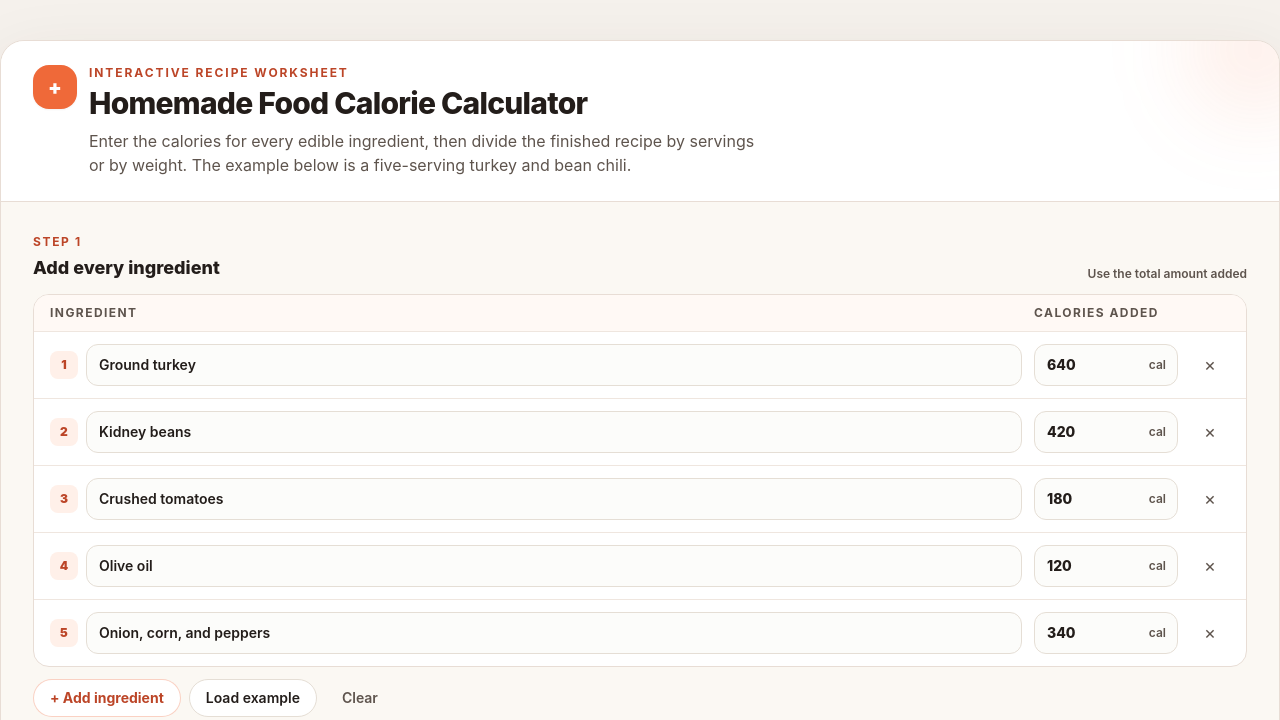
Scenario: HomemadeRecipeCalorieCalculator › clears safely without rendering invalid numeric output
Click the button "Clear": (360, 698) [325,679,395,717]
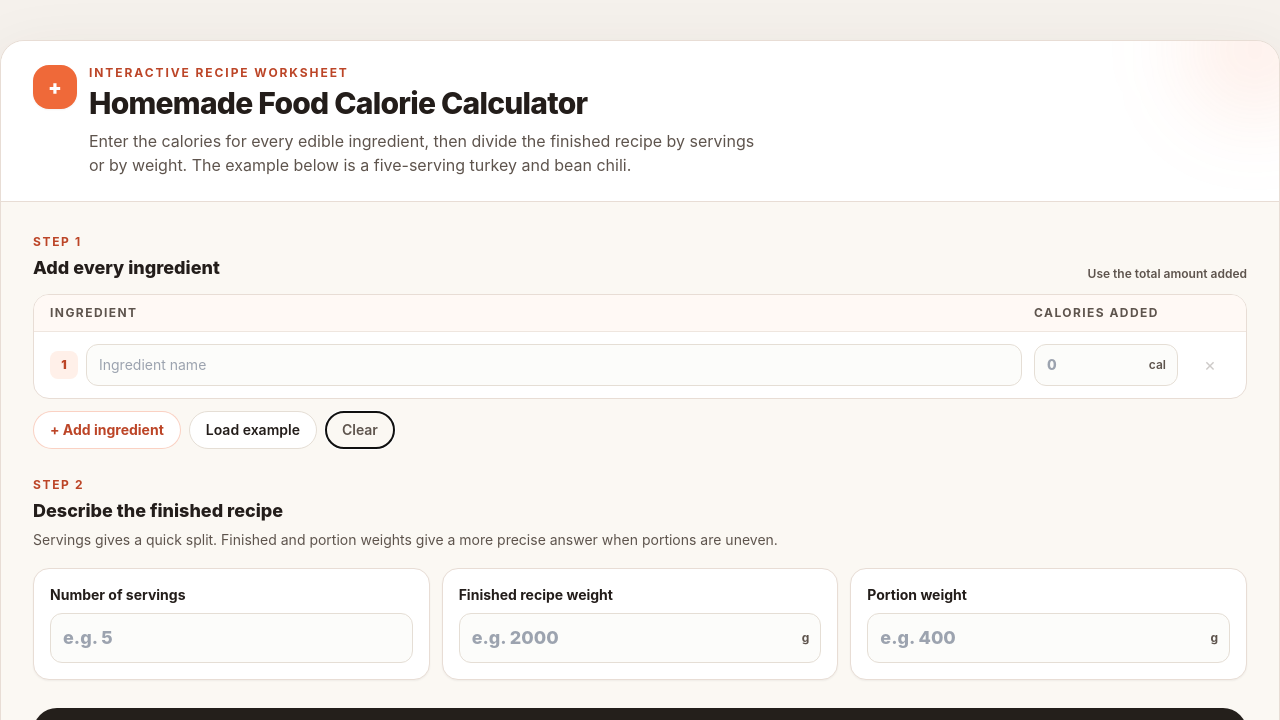
Expected: the number of number fields labelled "cal" is 1, [1034,344,1178,386]
Expected: the number field labelled "Number of servings" is not empty, [50,613,413,663]
